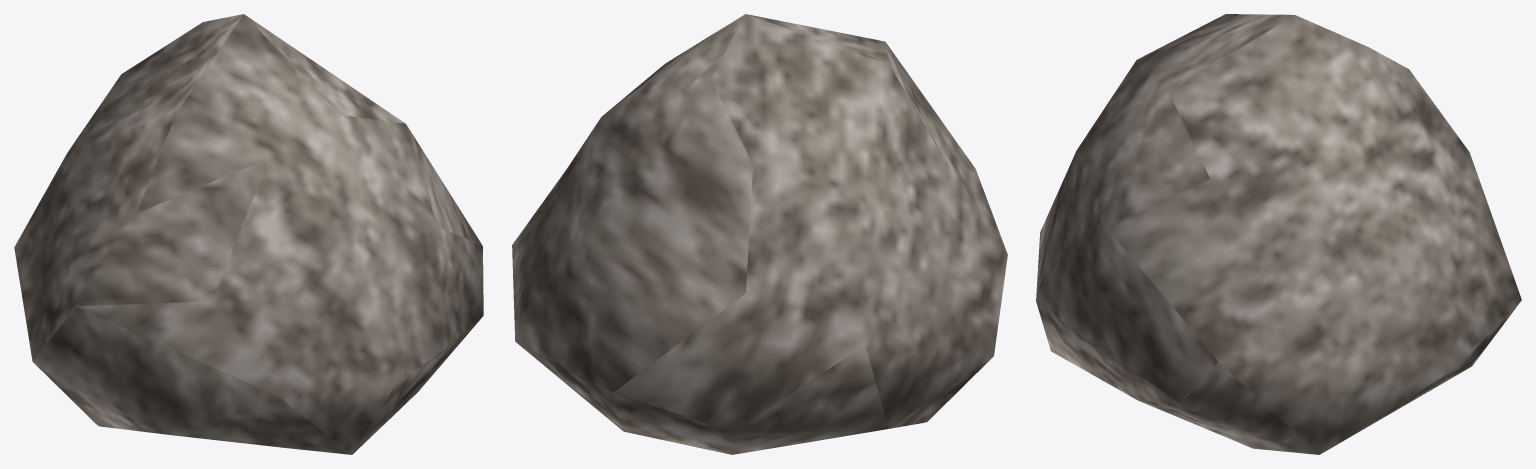
Rendered from lboulderreg_0.obj.
3 views of the same model, side by side, from view 1: azimuth 30°, elevation 25°; view 2: azimuth 150°, elevation 25°; view 3: azimuth 270°, elevation 25° (orthographic). The views are drawn at different scales.
Parts seen in each view (by area): view 1: lboulderreg_0; view 2: lboulderreg_0; view 3: lboulderreg_0.
Boxes of the visible parts, x1=… form: lboulderreg_0: x1=14, y1=14, x2=483, y2=454; lboulderreg_0: x1=512, y1=14, x2=1007, y2=454; lboulderreg_0: x1=1036, y1=14, x2=1521, y2=454.
Bounding box in the file's own units: 2.39 × 2.03 × 2.35.
